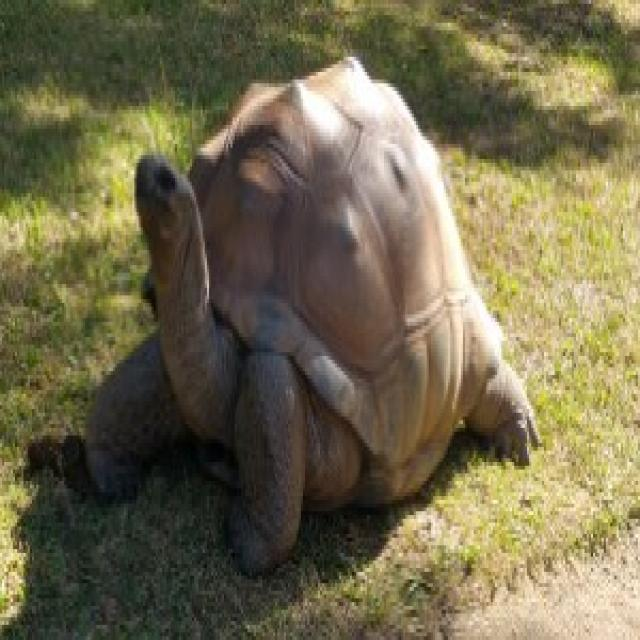Sea turtle: (62, 50, 536, 585)
